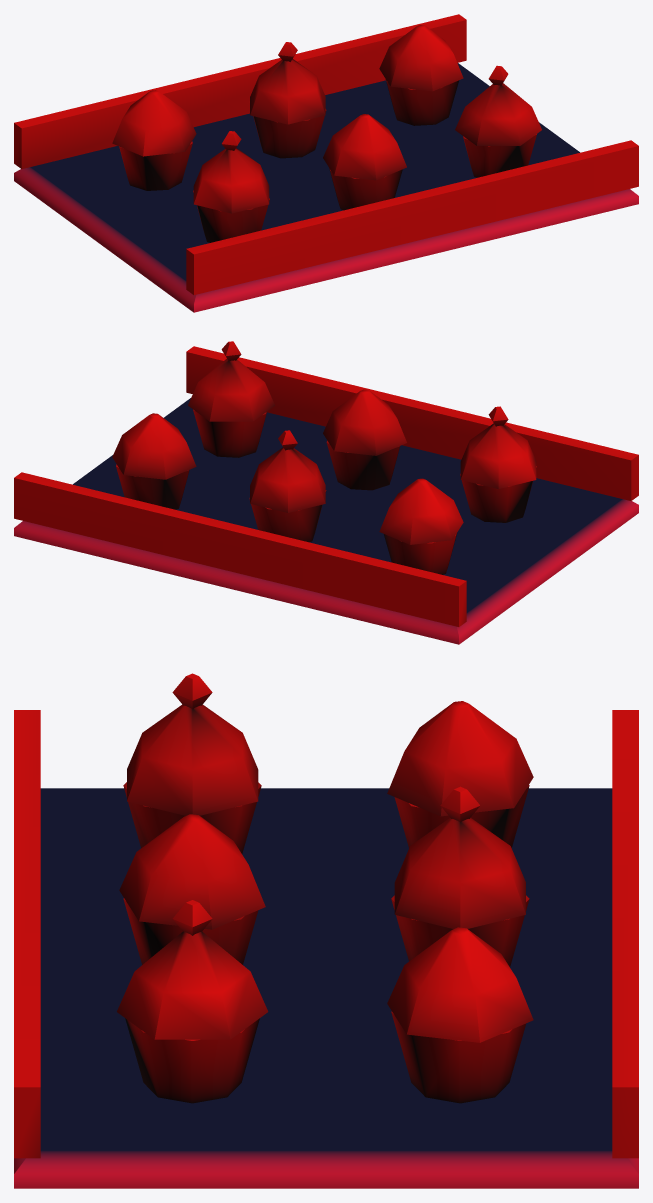
File: CI_Bakery_Cupcake_Tray.glb
3 renders of one model, top to bottom at view 1: azimuth 30°, elevation 25°; view 2: azimuth 150°, elevation 25°; view 3: azimuth 270°, elevation 25°, orthographic. The views are drawn at different scales.
Parts seen in each view (by area): view 1: CI_Bakery_Cupcake_Tray; view 2: CI_Bakery_Cupcake_Tray; view 3: CI_Bakery_Cupcake_Tray.
Boxes of the visible parts, x1,y1,x2,y2 form: CI_Bakery_Cupcake_Tray: [14, 14, 638, 312]; CI_Bakery_Cupcake_Tray: [14, 341, 638, 644]; CI_Bakery_Cupcake_Tray: [14, 673, 638, 1188].
Size of the model in its own units: 0.4 by 0.104 by 0.28.
